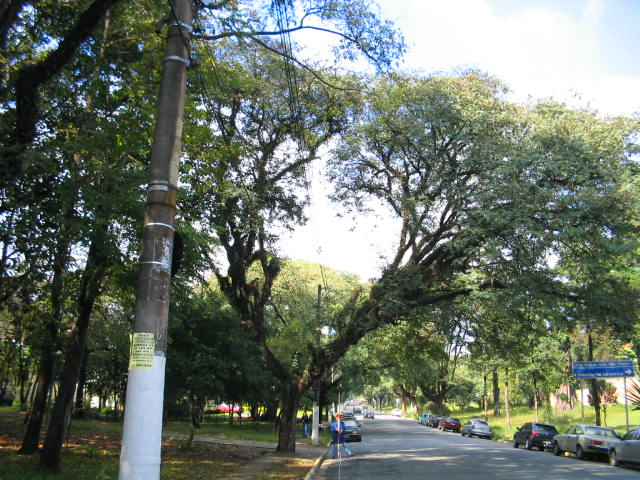crown: (192, 56, 635, 348)
stem: (269, 378, 313, 452)
stick: (332, 383, 343, 459)
tree: (190, 55, 636, 454)
